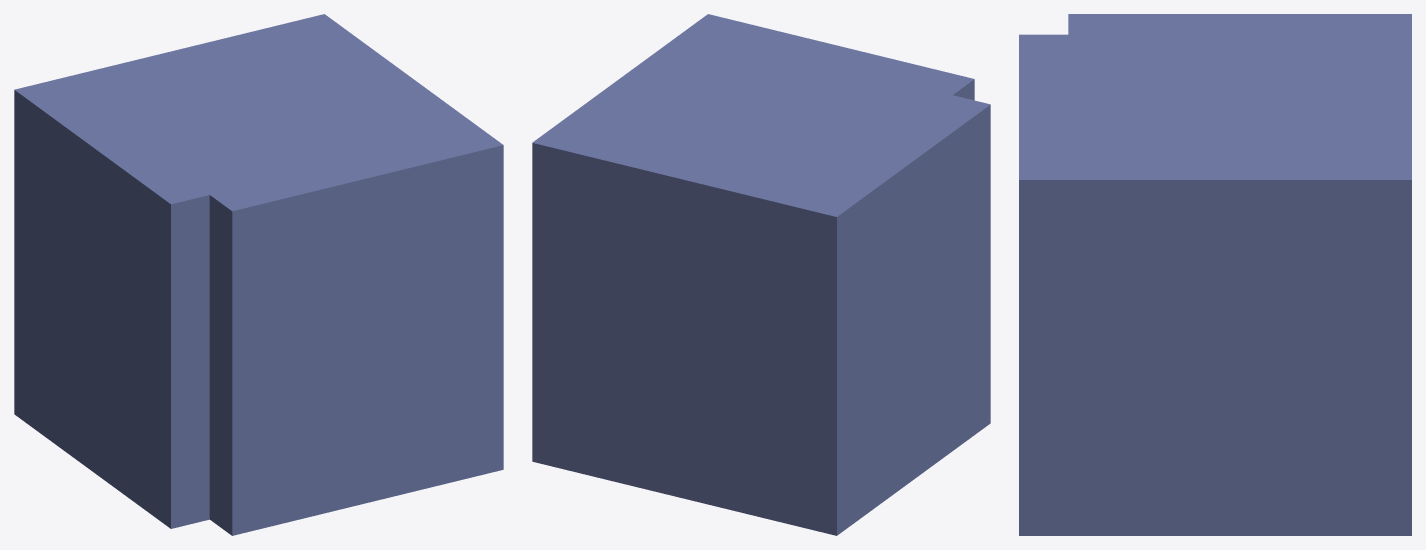
Rendered from GroundWallInwardCorner_1.fbx.
3 renders of one model, left to right at view 1: azimuth 30°, elevation 25°; view 2: azimuth 150°, elevation 25°; view 3: azimuth 270°, elevation 25°, orthographic. The views are drawn at different scales.
Visible parts, largest first — view 1: GroundWallInwardCorner_1; view 2: GroundWallInwardCorner_1; view 3: GroundWallInwardCorner_1.
Boxes of the visible parts, left/top/right/bottom form: GroundWallInwardCorner_1: left=14, top=14, right=503, bottom=535; GroundWallInwardCorner_1: left=532, top=14, right=990, bottom=535; GroundWallInwardCorner_1: left=1019, top=14, right=1411, bottom=535.
Size of the model in its own units: 16 by 16 by 16.
Materials: 1 (1 with a texture image).
